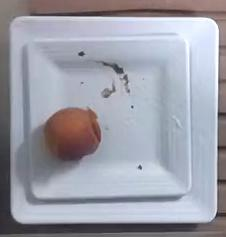fruit: (44, 107, 101, 160)
